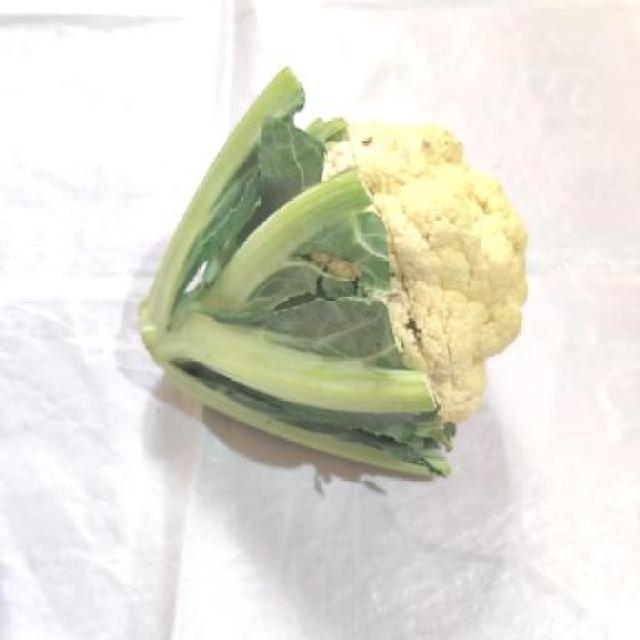Cauliflower: (86, 41, 560, 488)
